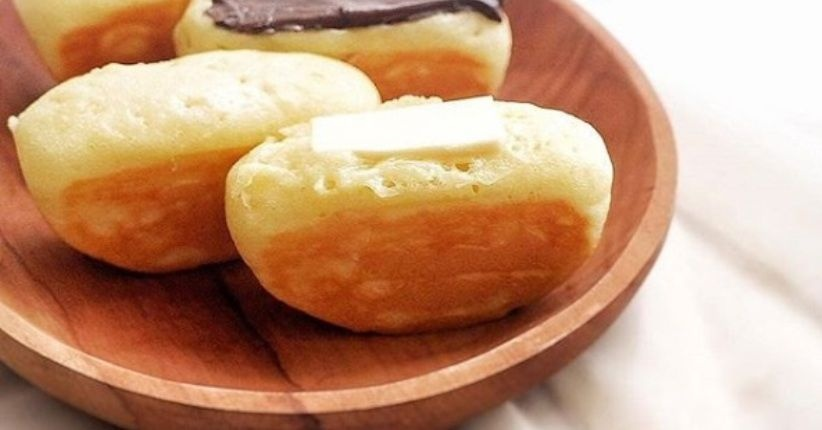pukis: (223, 94, 637, 336)
